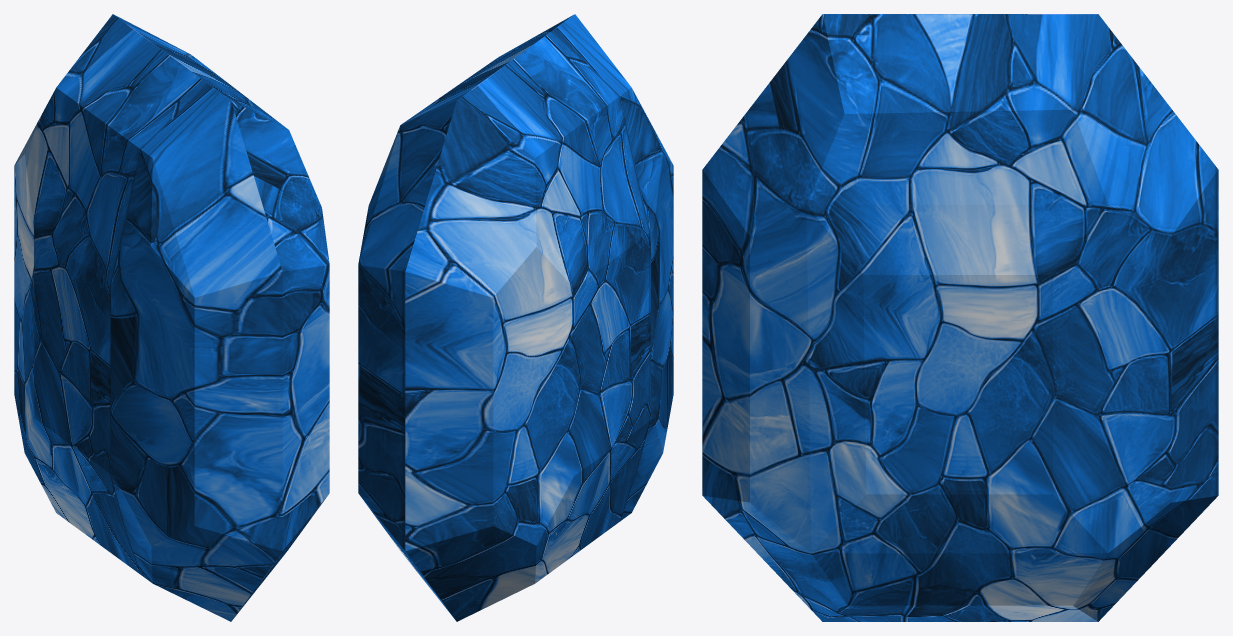
File: gemstone8Blue.glb
The picture shows the model from 3 angles, left to right: view 1: azimuth 30°, elevation 25°; view 2: azimuth 150°, elevation 25°; view 3: azimuth 270°, elevation 25°; orthographic projection. The views are drawn at different scales.
Parts seen in each view (by area): view 1: gemstone7; view 2: gemstone7; view 3: gemstone7.
Part boxes in pixels (x1,y1,x2,y2): gemstone7: (14, 14, 329, 621); gemstone7: (358, 14, 673, 621); gemstone7: (702, 14, 1218, 621).
Size of the model in its own units: 0.5 by 1.3 by 1.
Materials: 1 (1 with a texture image).
